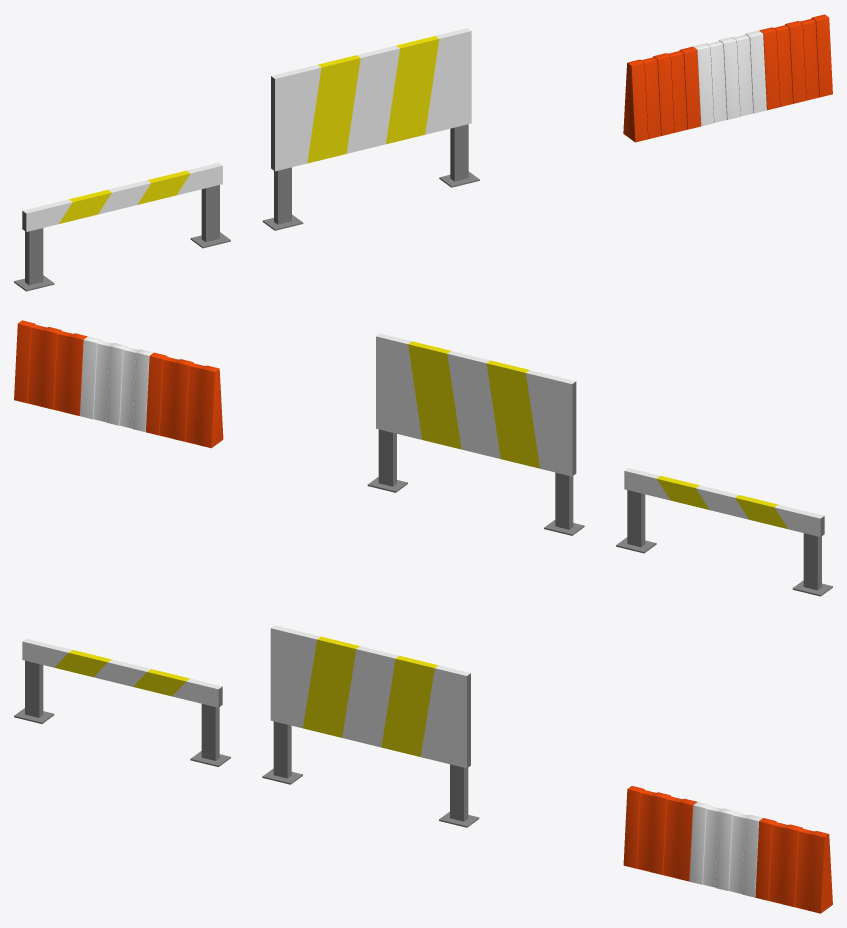
The model's file is Obstacle2.fbx.
The picture shows the model from 3 angles, top to bottom: view 1: azimuth 30°, elevation 25°; view 2: azimuth 150°, elevation 25°; view 3: azimuth 330°, elevation 25°; orthographic projection.
Visible parts, largest first — view 1: Box001, Box004, Box006, Box005, Box009, Box008, Box007, Box003, Box002; view 2: Box001, Box004, Box006, Box005, Box009, Box007, Box003, Box002, Box008; view 3: Box001, Box006, Box005, Box004, Box009, Box007, Box003, Box002, Box008.
Part boxes in pixels (bbox=[...]): Box001: bbox=[271, 28, 471, 171]; Box004: bbox=[623, 46, 700, 142]; Box006: bbox=[759, 14, 832, 110]; Box005: bbox=[693, 30, 766, 126]; Box009: bbox=[22, 162, 222, 231]; Box008: bbox=[14, 228, 54, 291]; Box007: bbox=[190, 185, 230, 248]; Box003: bbox=[439, 124, 479, 187]; Box002: bbox=[262, 167, 303, 230]; Box001: bbox=[376, 333, 576, 476]; Box004: bbox=[146, 352, 223, 448]; Box006: bbox=[14, 320, 87, 415]; Box005: bbox=[80, 336, 153, 431]; Box009: bbox=[624, 468, 824, 536]; Box007: bbox=[616, 490, 656, 553]; Box003: bbox=[367, 429, 407, 492]; Box002: bbox=[544, 472, 584, 535]; Box008: bbox=[792, 533, 832, 596]; Box001: bbox=[270, 625, 470, 768]; Box006: bbox=[755, 818, 832, 913]; Box005: bbox=[689, 802, 762, 897]; Box004: bbox=[623, 786, 696, 881]; Box009: bbox=[22, 638, 222, 707]; Box007: bbox=[190, 704, 230, 766]; Box003: bbox=[439, 764, 479, 827]; Box002: bbox=[262, 721, 302, 784]; Box008: bbox=[14, 660, 54, 723].
Bounding box in the file's own units: 450 × 12.23 × 78.78.
